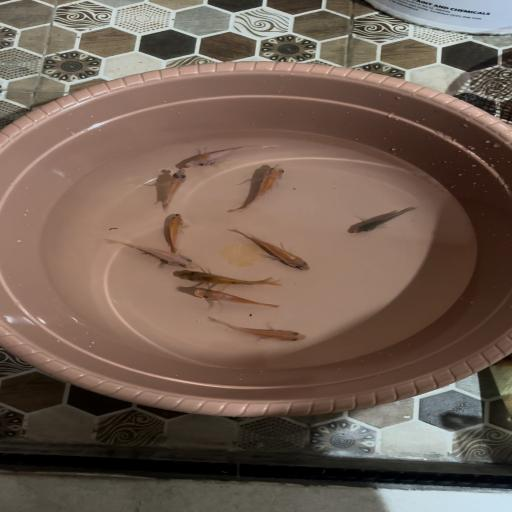nila: (176, 284, 290, 318), (221, 232, 315, 272), (166, 142, 309, 168), (100, 240, 198, 274), (336, 204, 436, 236), (207, 316, 312, 346), (239, 166, 300, 215), (162, 264, 291, 287), (154, 170, 203, 210), (155, 213, 201, 253)
